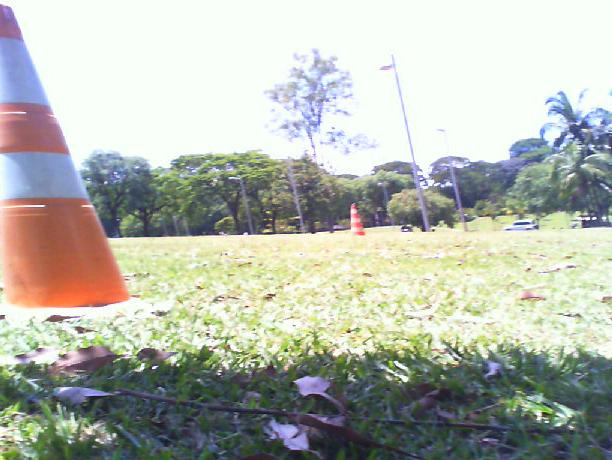0 cone: (0, 2, 155, 314), (350, 205, 366, 235)
